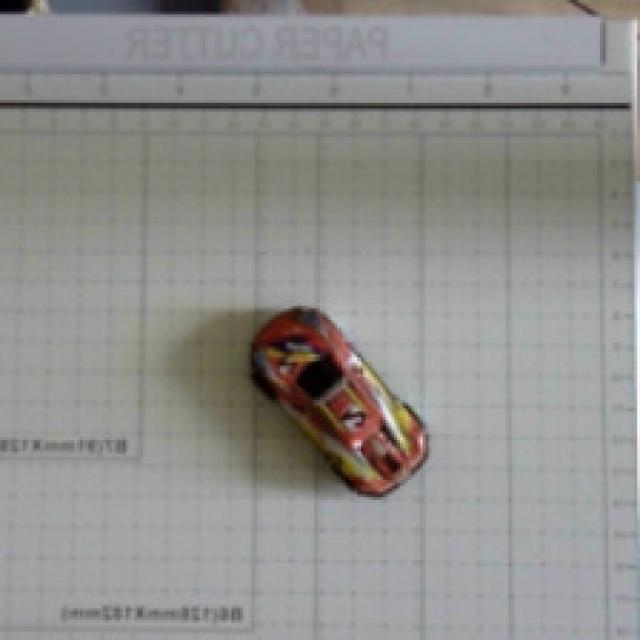Red Car: (212, 259, 484, 536)
